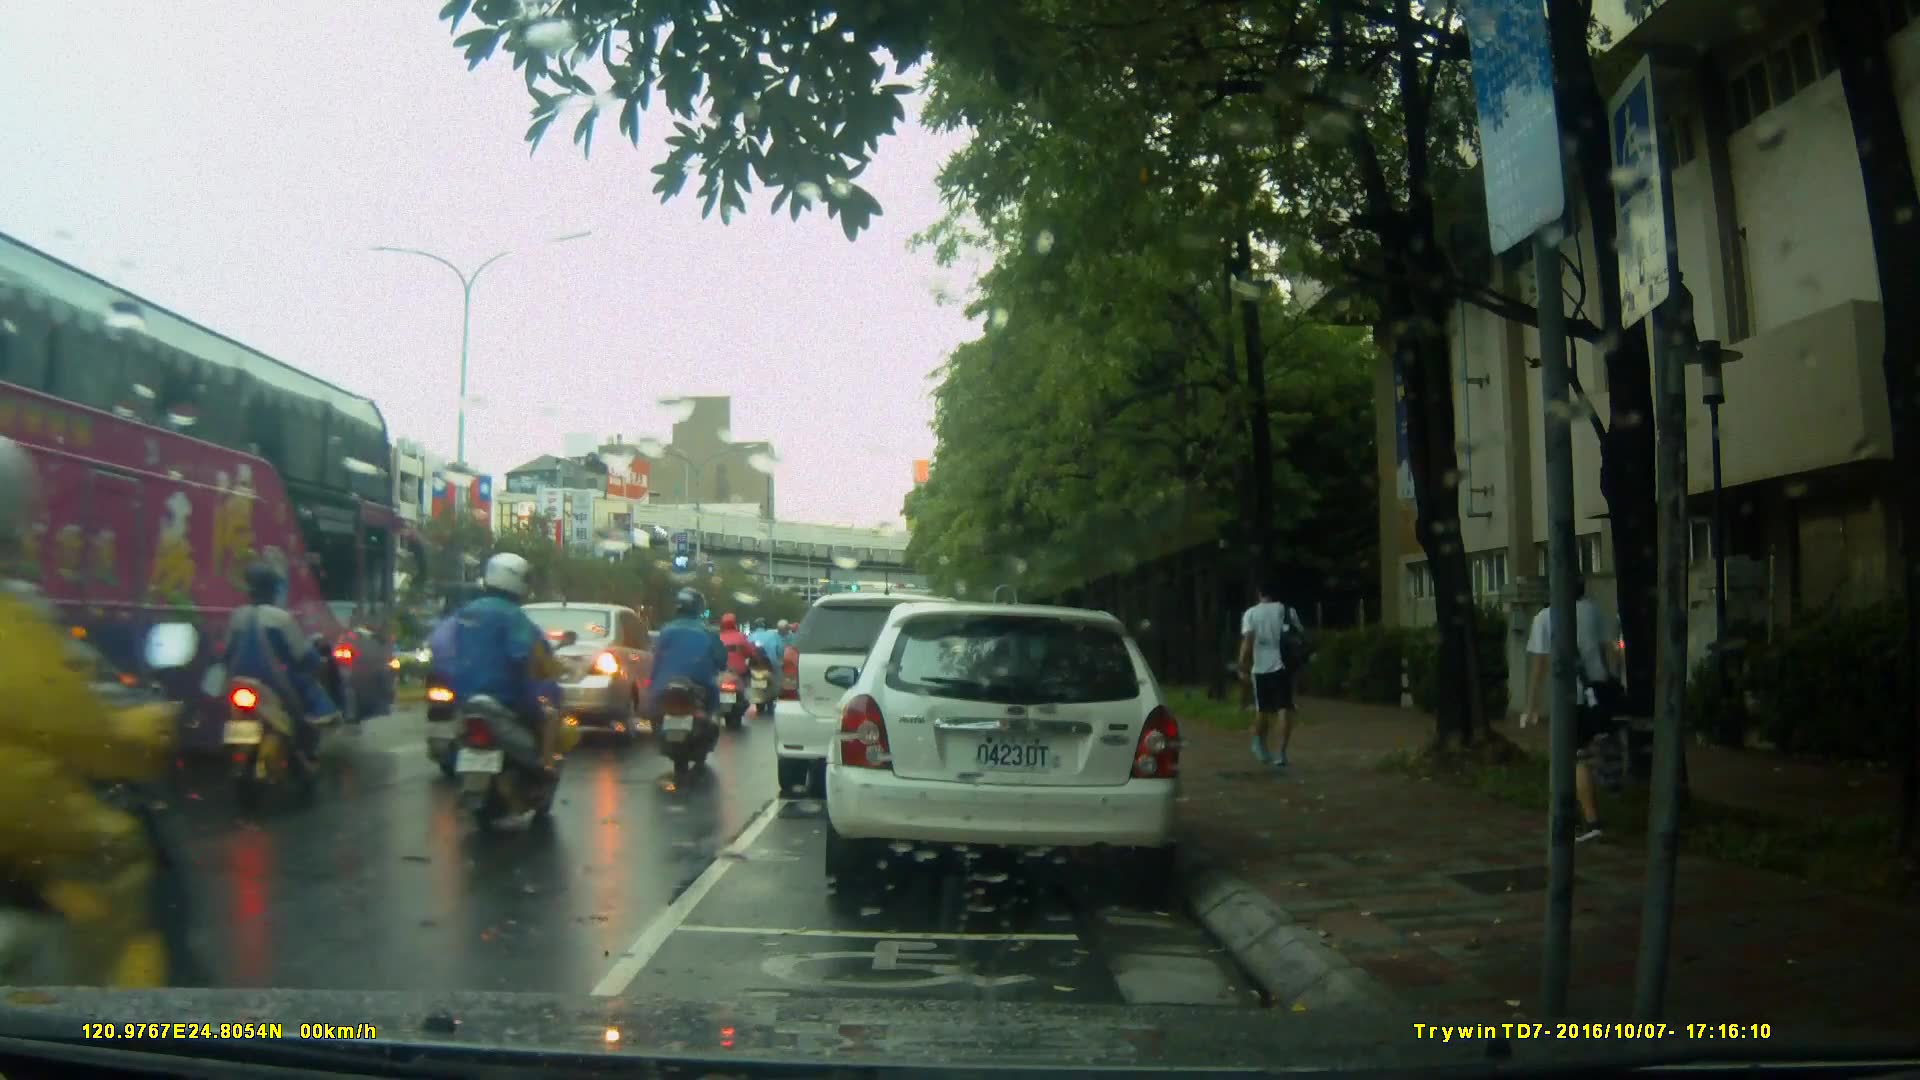pedestrian: (1511, 548, 1612, 842), (1227, 569, 1313, 785)
rider: (1, 452, 210, 1054), (446, 552, 564, 838), (212, 558, 331, 807), (650, 585, 732, 775), (707, 605, 762, 727), (749, 612, 787, 713), (773, 621, 812, 707)
vehicle: (10, 245, 397, 859), (812, 604, 1188, 881), (774, 595, 995, 802), (466, 600, 686, 745)
